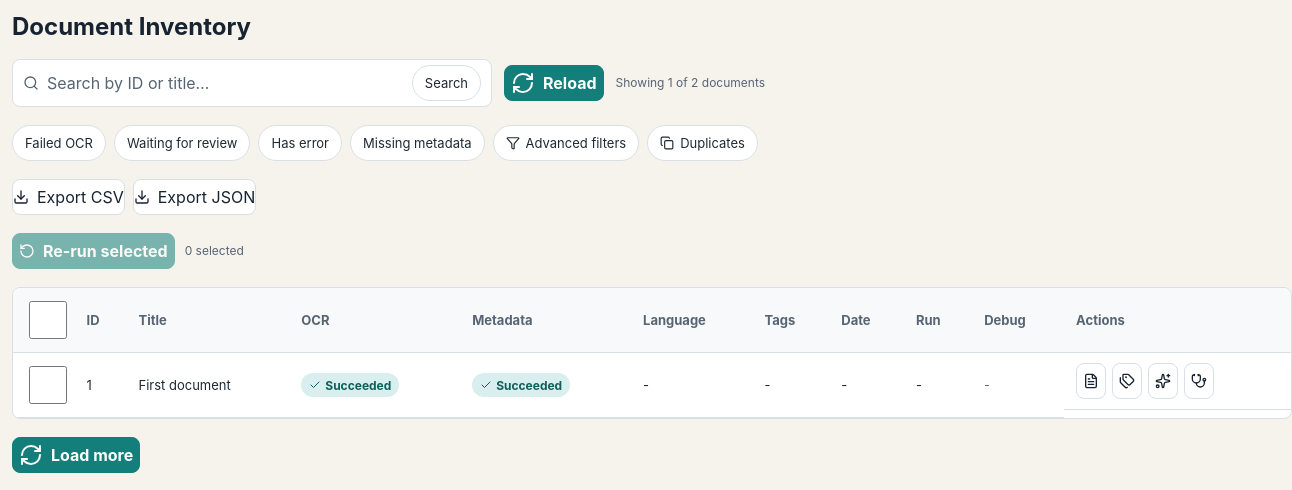
Test: <Inventory> selection query context › removes the stale selection context as soon as refresh starts
The width and height of the screenshot is (1292, 490).
Click the checkbox named "Select document #1".
click(48, 385)  # box [29, 366, 67, 404]
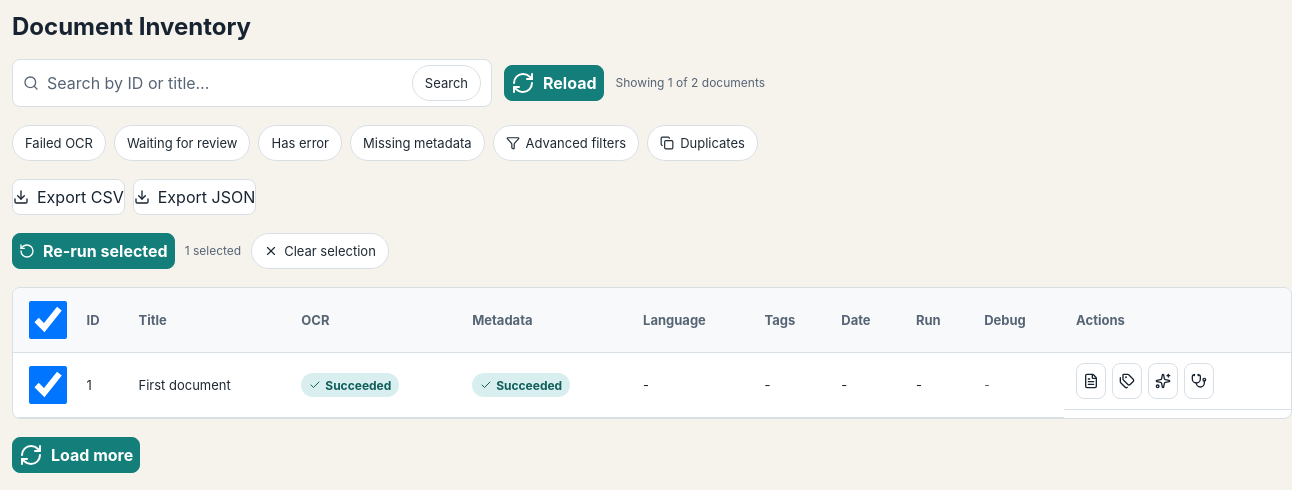
Click the button "Reload".
click(554, 83)  # box [504, 65, 604, 101]
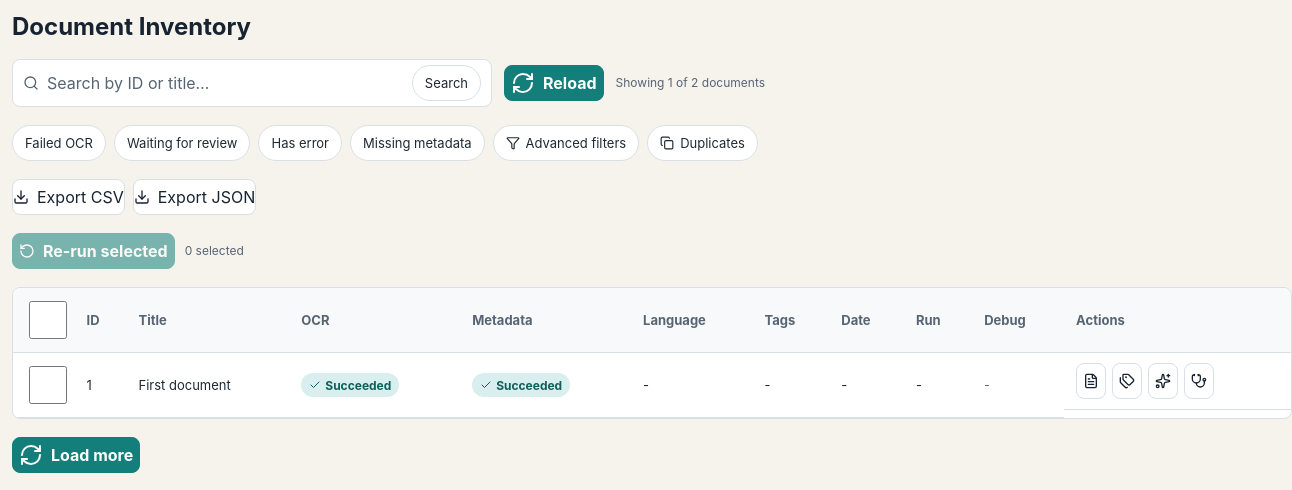
Check: the checkbox named "Select document #1" is not checked, box [29, 366, 67, 404]
